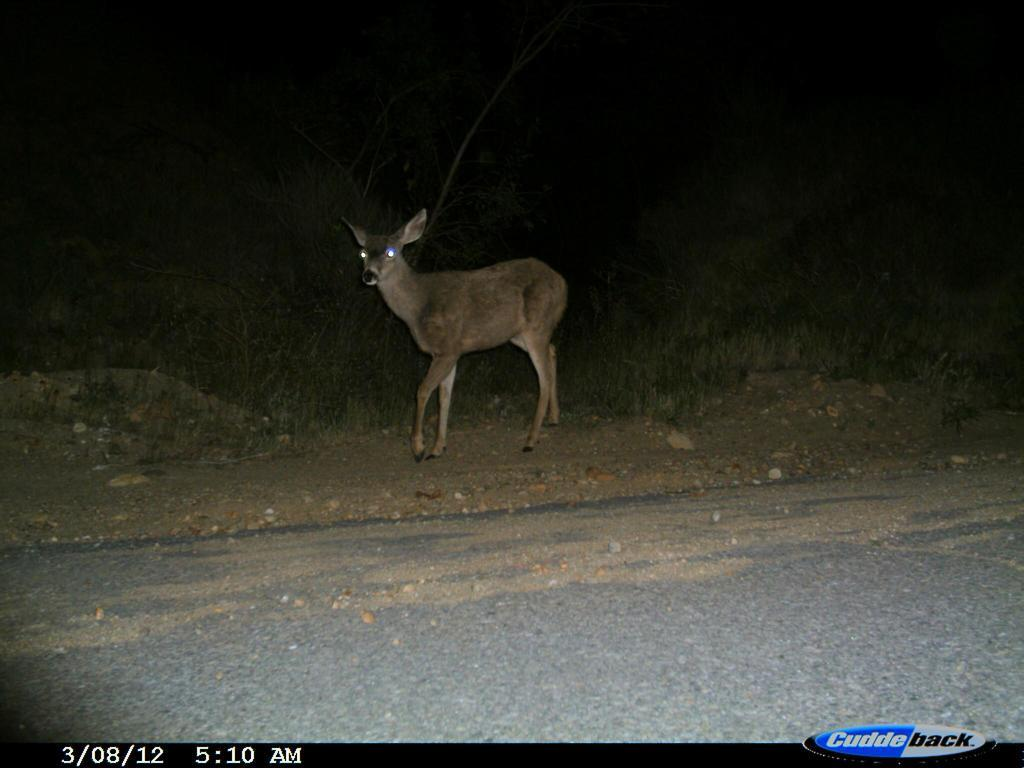deer: (335, 209, 574, 463)
